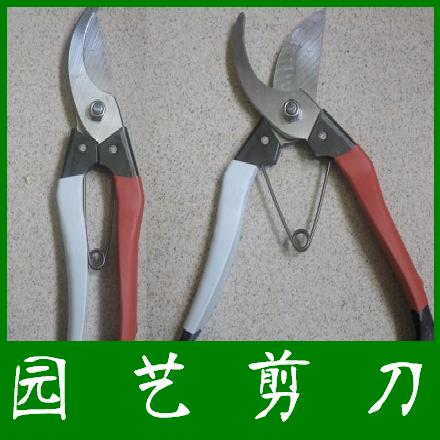scissor: (41, 9, 437, 370)
